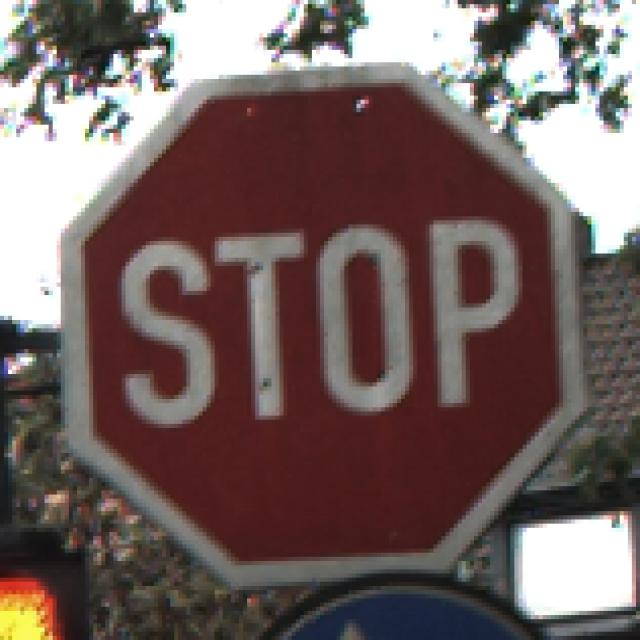STOP: (54, 59, 588, 587)
